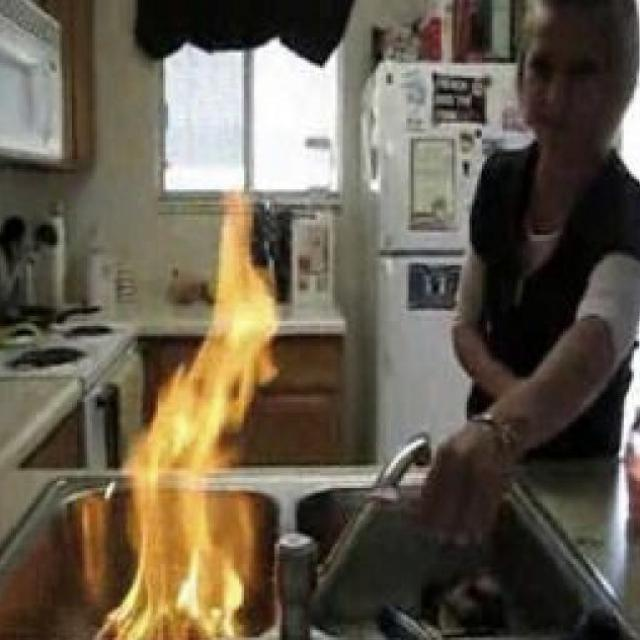smoke: (126, 205, 278, 640)
